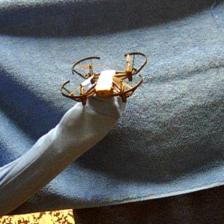drone: (56, 52, 150, 108)
